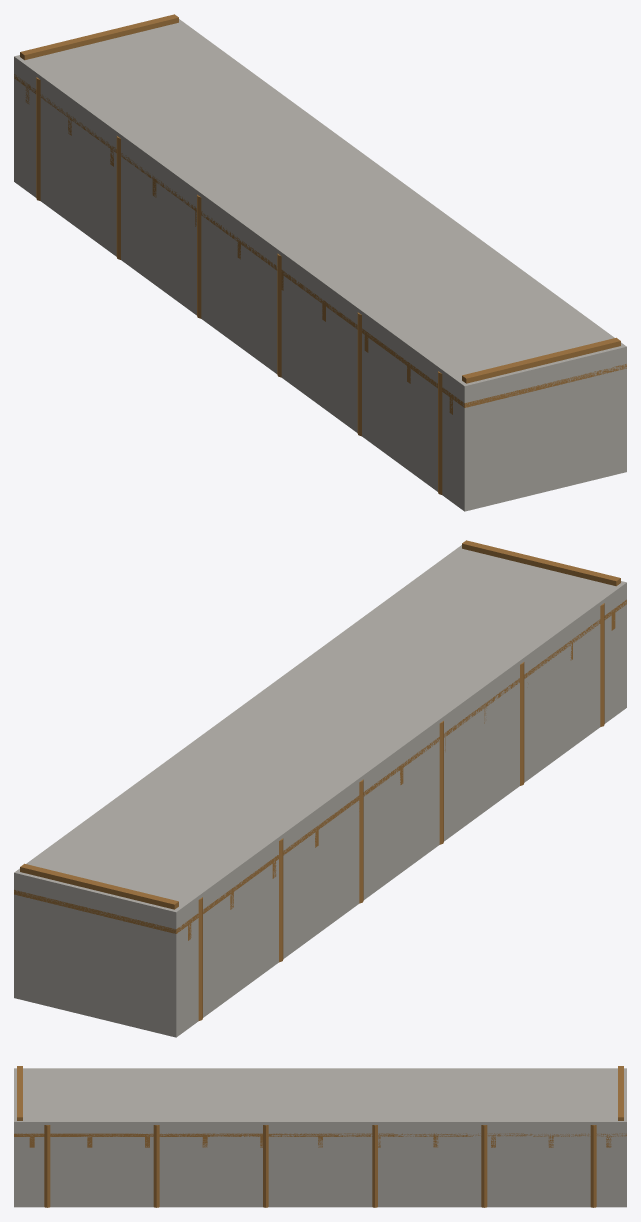
File: PRP_Dock.fbx
3 views of the same model, one above another, from view 1: azimuth 30°, elevation 25°; view 2: azimuth 150°, elevation 25°; view 3: azimuth 270°, elevation 25° (orthographic). The views are drawn at different scales.
Visible parts, largest first — view 1: PRP_Dock__COL_Main, PRP_Dock__BODY; view 2: PRP_Dock__COL_Main, PRP_Dock__BODY; view 3: PRP_Dock__COL_Main, PRP_Dock__BODY.
Part boxes in pixels (box(x1,y1,x2,y2)): PRP_Dock__COL_Main: box(14, 19, 626, 511); PRP_Dock__BODY: box(14, 14, 626, 494); PRP_Dock__COL_Main: box(14, 545, 626, 1037); PRP_Dock__BODY: box(14, 540, 626, 1020); PRP_Dock__COL_Main: box(14, 1068, 626, 1207); PRP_Dock__BODY: box(14, 1066, 626, 1207).
Size of the model in its own units: 4.28 by 3.23 by 20.2.
